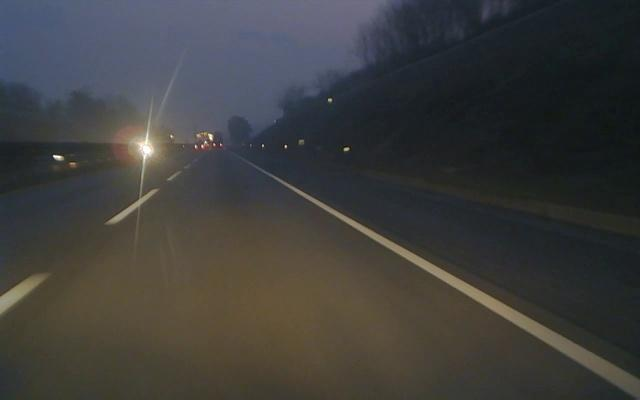lane: (265, 172, 637, 399), (0, 171, 183, 317)
